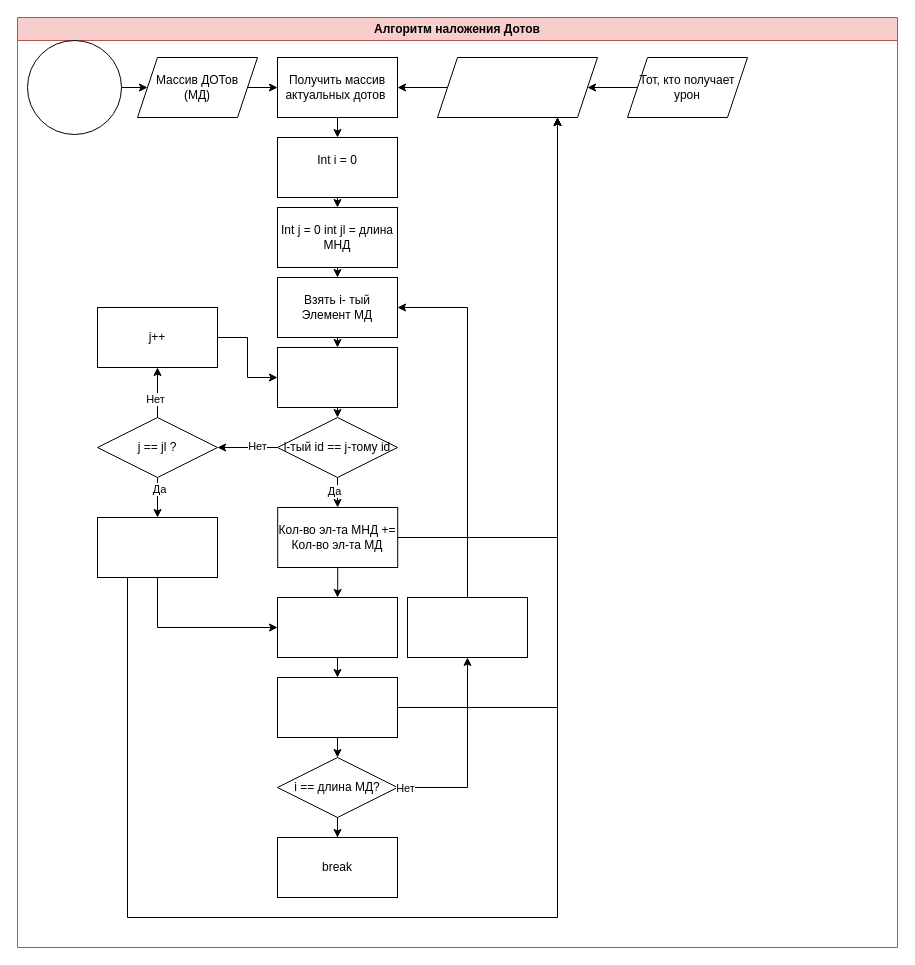
The diagram is 915 pixels wide and 965 high, and some of its shapes have lost their labels. The shapes that lost their labels are listed below. From the top down, each one's centre as x and y in pixels, then its label:
(x=74, y=87): Алгоритм разделения массива инвентаря для атаки
(x=517, y=87): Наложенные ДОТы (МНД)
(x=337, y=377): Взять j- тый Элемент МНД
(x=157, y=547): Добавить id i-того в конец массива наложенных ДОТОВ
(x=337, y=627): Произвести запрос Длительности из справочника предметов по id
(x=467, y=627): i++
(x=337, y=707): Оставшееся время в МНД = длительность, Время старта = null
